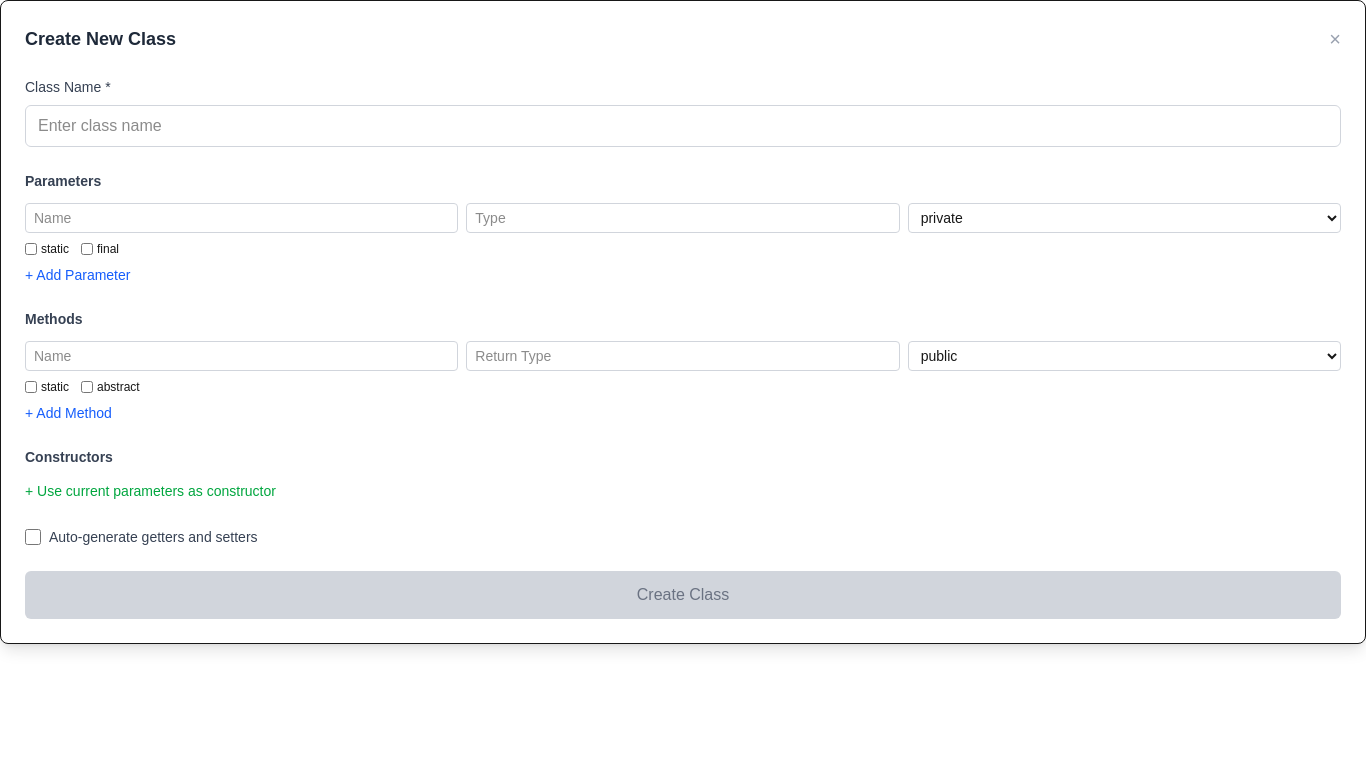
Test: CreateClass component › adds and removes a method
Add a method
Type "login" into the field with placeholder "Name" below "Methods".
click(242, 356); type("login")  # box x1=25 y1=341 x2=458 y2=371
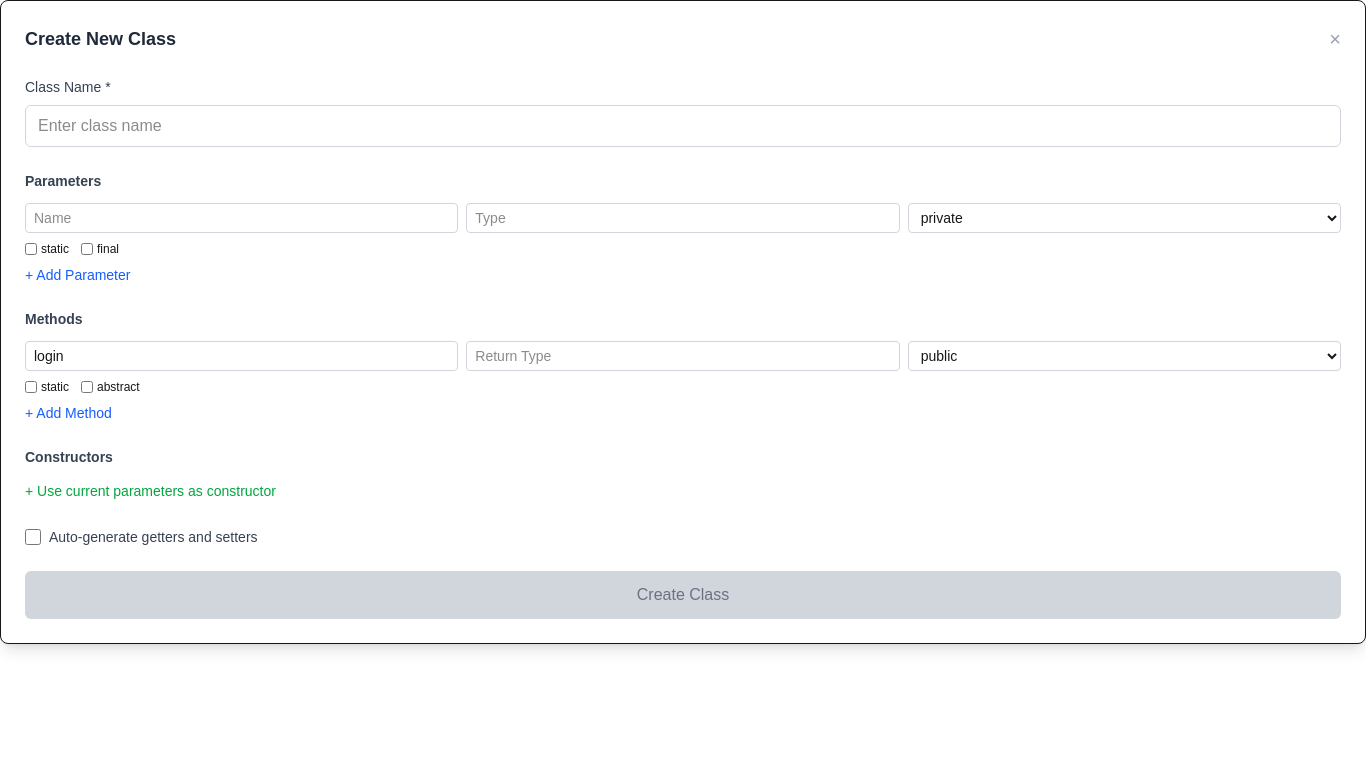
Type "boolean" into the field with placeholder "Return Type".
click(683, 356); type("boolean")  # box x1=466 y1=341 x2=900 y2=371
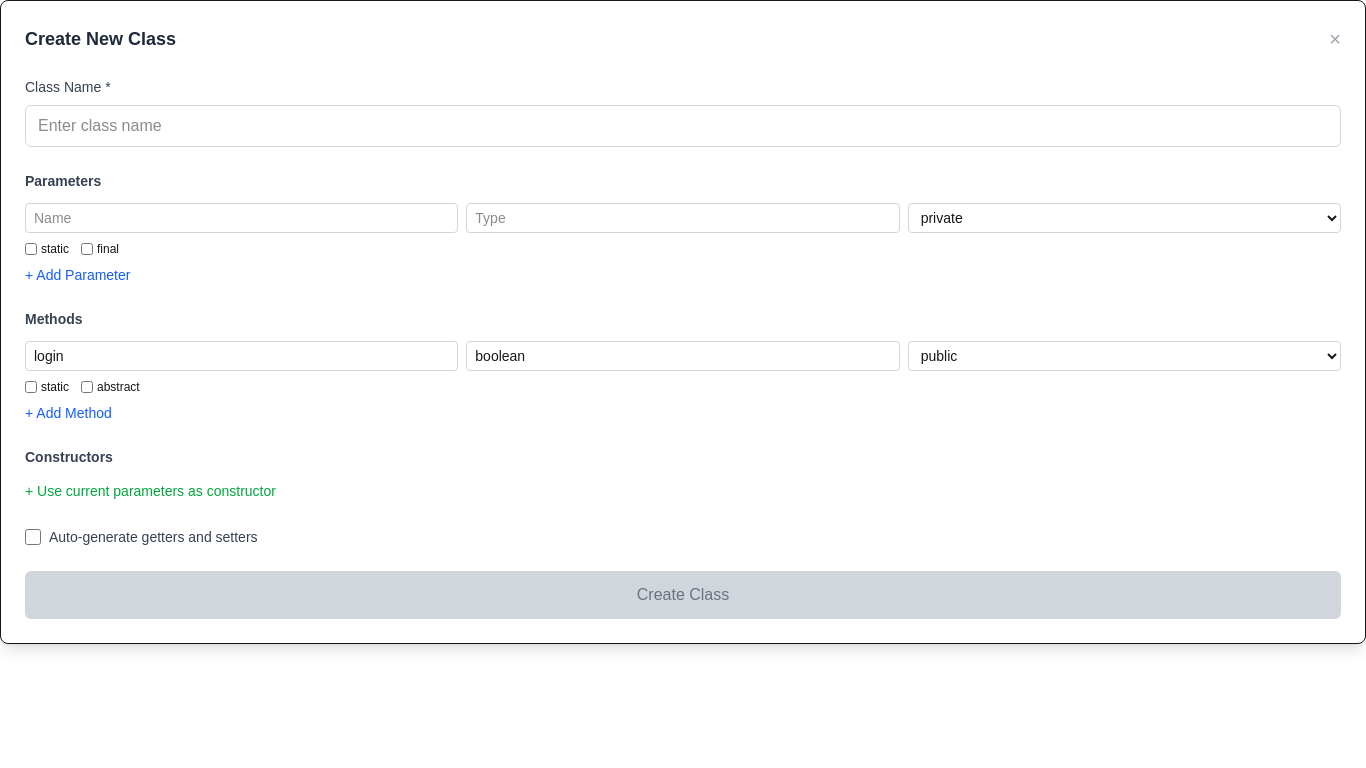
Click the button "+ Add Method".
click(68, 413)  # box x1=25 y1=403 x2=112 y2=423
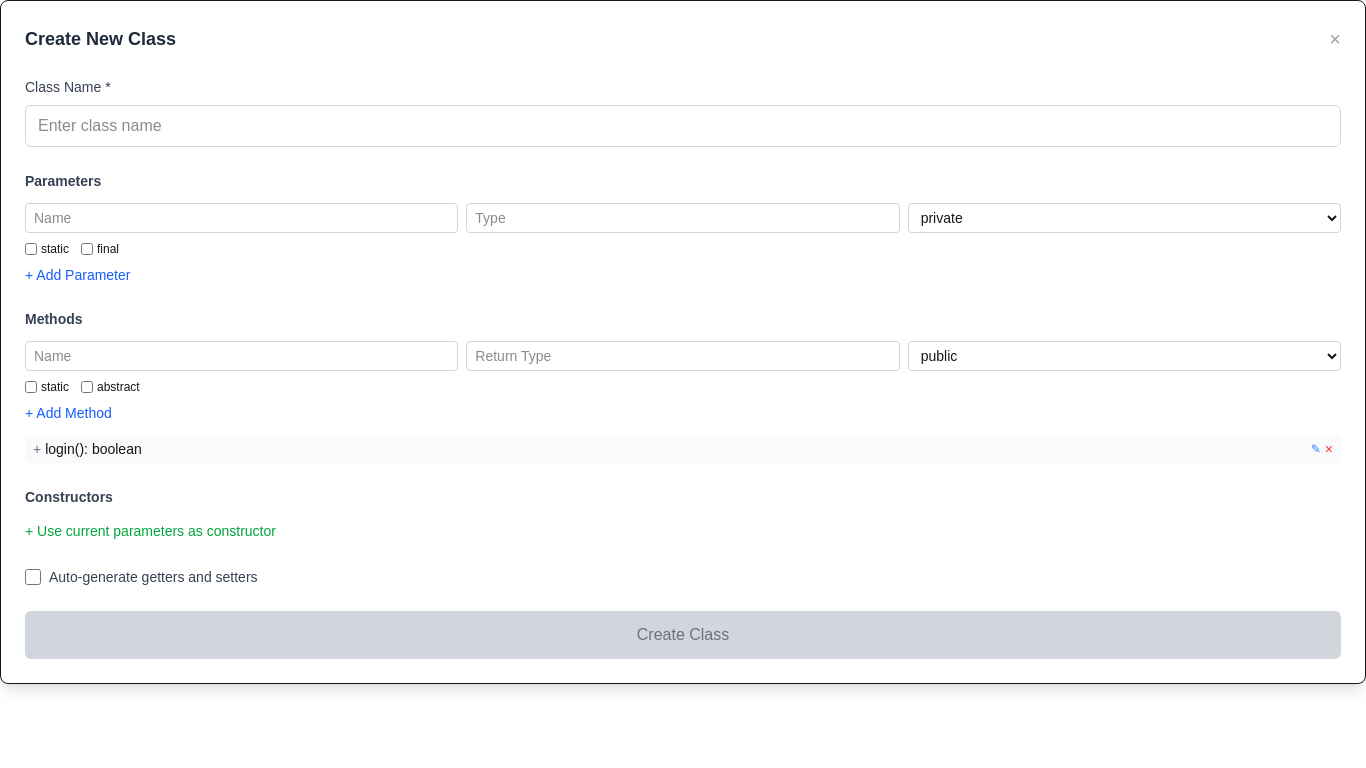
Expected: the text "login(): boolean" is shown, x1=45 y1=441 x2=142 y2=457
Remove it
Click the button named "Remove method".
click(1329, 449)  # box x1=1325 y1=439 x2=1333 y2=459
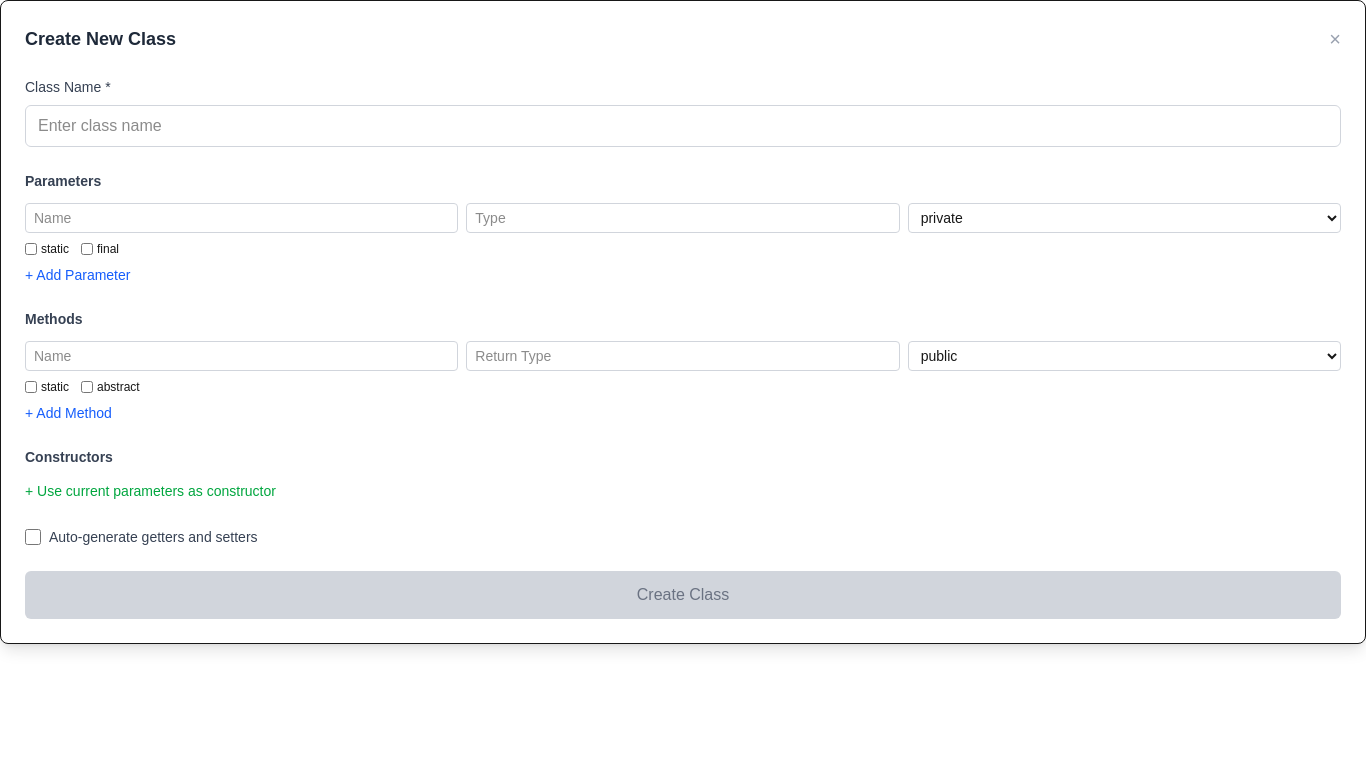
Expected: the text "login(): boolean" is gone
